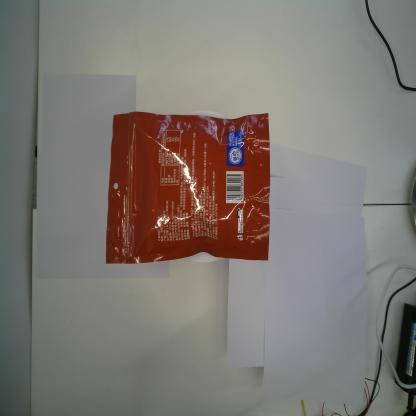Dried Food: (104, 112, 272, 266)
